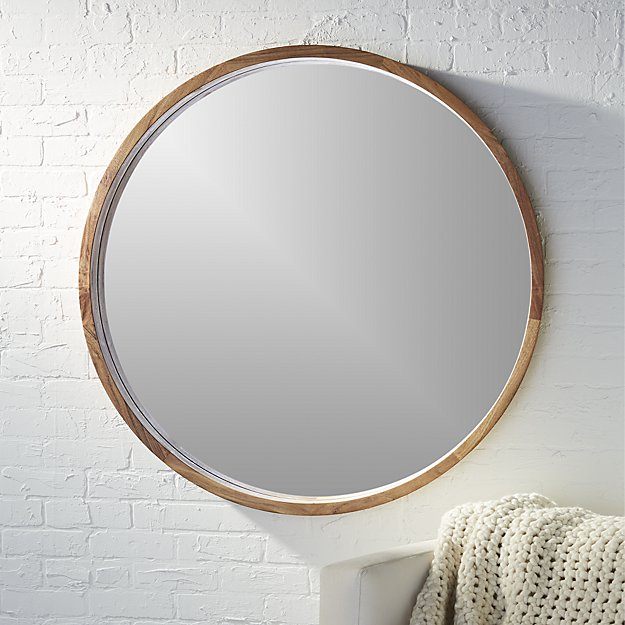Nonrec_Glass: (39, 39, 563, 502)
